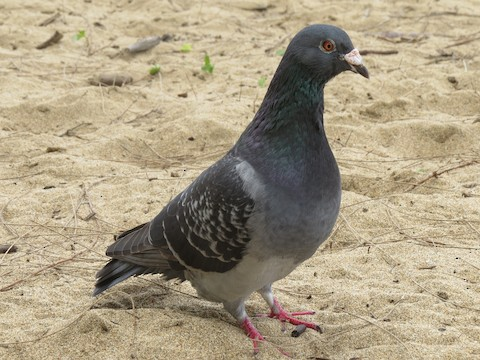pigeon: (89, 21, 373, 348)
